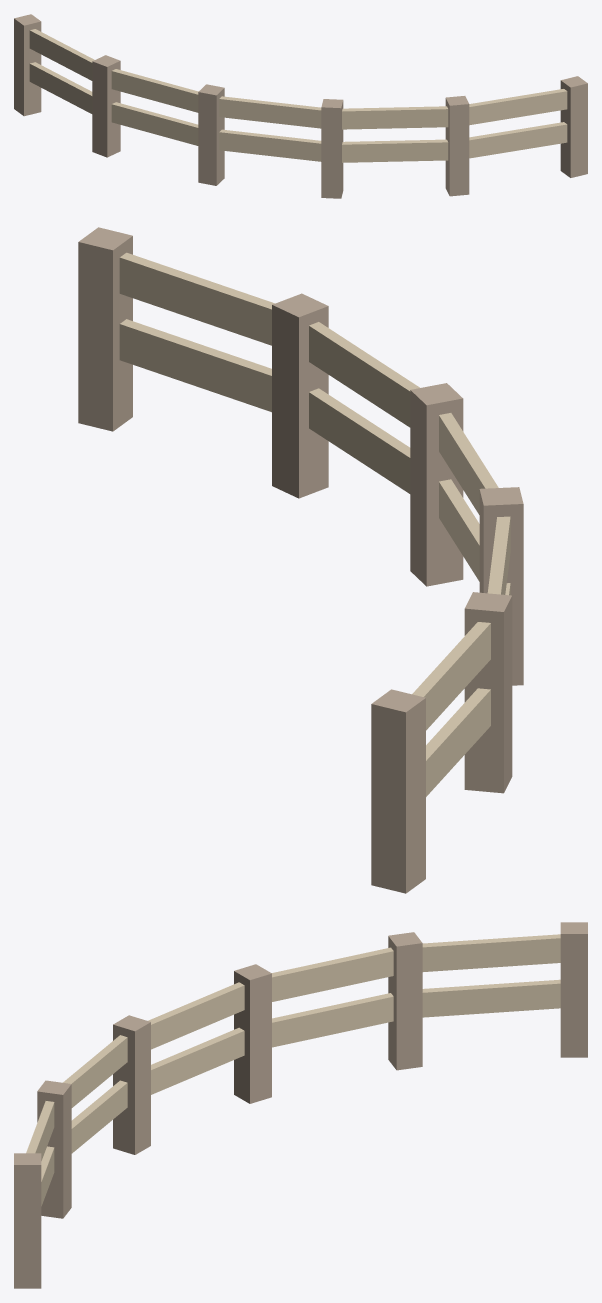
Rendered from Hilly_Prop_Fence_Curve_3x3.glb.
3 views of the same model, one above another, from view 1: azimuth 30°, elevation 25°; view 2: azimuth 150°, elevation 25°; view 3: azimuth 270°, elevation 25° (orthographic). The views are drawn at different scales.
Visible parts, largest first — view 1: Hilly_Prop_Fence_Curve_3x3; view 2: Hilly_Prop_Fence_Curve_3x3; view 3: Hilly_Prop_Fence_Curve_3x3.
Boxes of the visible parts, left/top/right/bottom form: Hilly_Prop_Fence_Curve_3x3: left=14, top=14, right=587, bottom=198; Hilly_Prop_Fence_Curve_3x3: left=78, top=227, right=523, bottom=893; Hilly_Prop_Fence_Curve_3x3: left=14, top=922, right=587, bottom=1288.
Size of the model in its own units: 0.882 by 0.2099 by 0.882.
